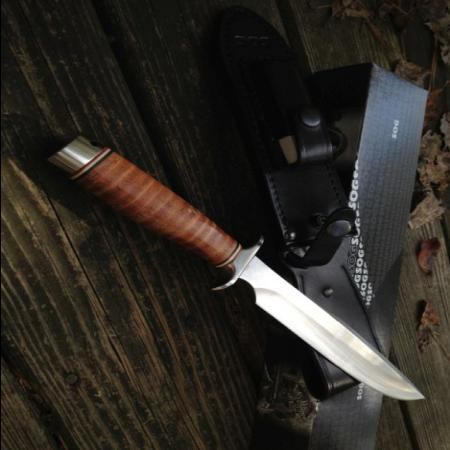long weapon: (240, 259, 436, 408)
